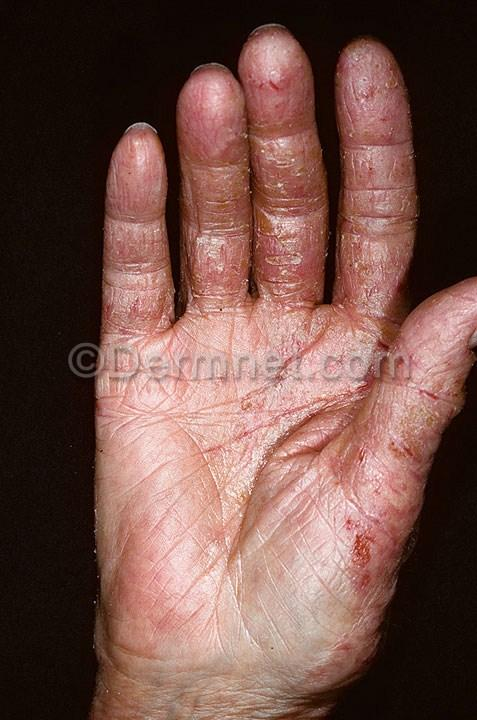Eczema: (304, 107, 434, 375), (171, 119, 286, 322), (296, 500, 419, 657), (347, 405, 430, 462)
